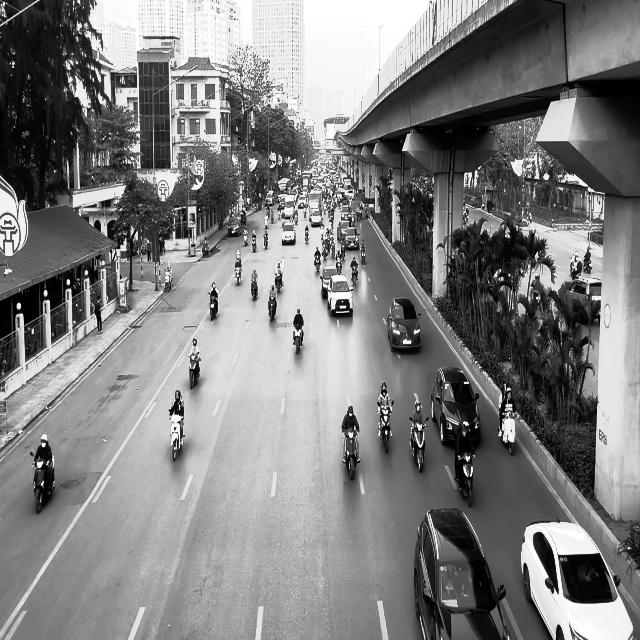car: (520, 519, 636, 640), (413, 507, 511, 639), (430, 365, 481, 446), (387, 296, 421, 351), (565, 278, 602, 324), (326, 275, 354, 317), (320, 266, 338, 299), (281, 222, 296, 245), (227, 217, 241, 236)
motorbike: (30, 451, 55, 513), (409, 416, 428, 472), (457, 451, 475, 507), (341, 425, 359, 480), (168, 408, 185, 461), (377, 401, 394, 453), (499, 410, 517, 455), (188, 356, 201, 388), (292, 324, 304, 354), (268, 295, 277, 322), (209, 293, 218, 320), (164, 270, 173, 292), (251, 279, 258, 301), (274, 273, 282, 292), (351, 264, 358, 285), (234, 267, 242, 285), (583, 257, 592, 273), (202, 243, 209, 257), (251, 237, 257, 252), (264, 230, 268, 250)
